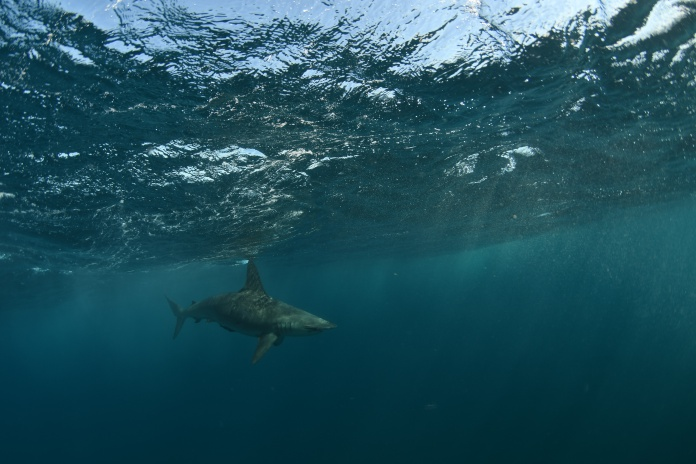Hammer: (135, 233, 369, 402)
